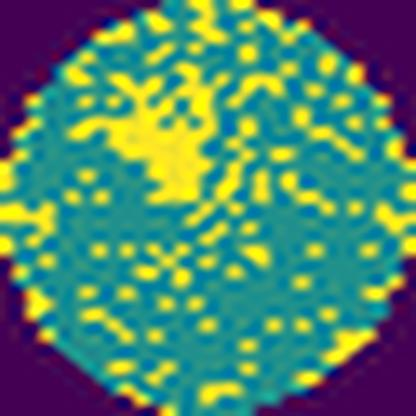Loc: (69, 57, 232, 210)
